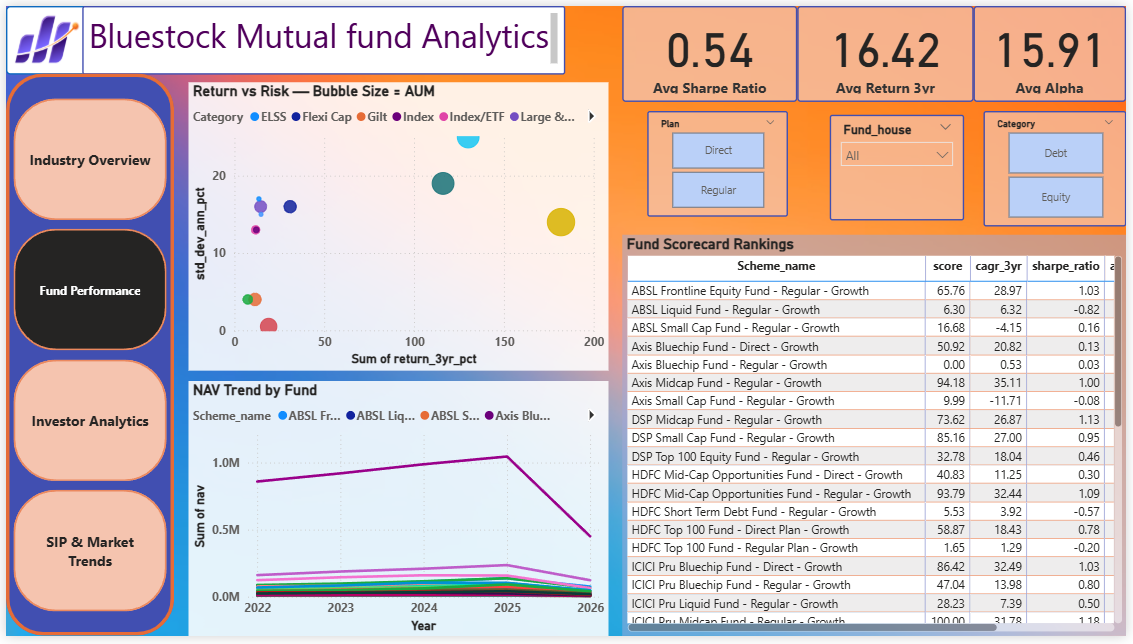

Layout of this report page (visuals, bound fields, positions):
{"tool":"powerbi","page":{"name":"Fund Performance","canvas":[1280,720],"ordinal":1},"visuals":[{"type":"scatterChart","title":"Return vs Risk — Bubble Size = AUM","fields":{"X":["Sum(fact_performance.return_3yr_pct)"],"Y":["fact_performance.std_dev_ann_pct"],"Size":["Sum(fact_performance.aum_crore)"],"Series":["fact_performance.category"]},"box":[208.6,86.4,480.3,329.3],"z":0},{"type":"tableEx","title":"Fund Scorecard Rankings","fields":{"Values":["fund_scorecard.scheme_name","fund_scorecard.score","fund_scorecard.cagr_3yr","fund_scorecard.sharpe_ratio","fund_scorecard.alpha_ann","fund_scorecard.max_drawdown"]},"box":[703.9,262.1,576.3,458.3],"z":1000},{"type":"lineChart","title":"NAV Trend by Fund","fields":{"Category":["fact_nav.date.Variation.Date Hierarchy.Year","fact_nav.date.Variation.Date Hierarchy.Quarter","fact_nav.date.Variation.Date Hierarchy.Month","fact_nav.date.Variation.Date Hierarchy.Day"],"Y":["Sum(fact_nav.nav)"],"Series":["dim_fund.scheme_name"]},"box":[208.6,428.1,480.3,292.3],"z":2000},{"type":"card","fields":{"Values":["_Measures.Avg Return 3yr"]},"box":[904.3,0,201.7,109.8],"z":3000},{"type":"card","fields":{"Values":["_Measures.Avg Sharpe Ratio"]},"box":[703.9,0,200.3,109.8],"z":4000},{"type":"card","fields":{"Values":["_Measures.Avg Alpha"]},"box":[1106,0,174.3,109.8],"z":5000},{"type":"slicer","fields":{"Values":["dim_fund.plan"]},"box":[732.8,119.4,160.5,120.8],"z":6000},{"type":"slicer","fields":{"Values":["dim_fund.category"]},"box":[1117,119.4,163.3,131.7],"z":7000},{"type":"slicer","fields":{"Values":["dim_fund.fund_house"]},"box":[941.3,124.9,153.7,120.8],"z":8000},{"type":"image","box":[0,0,93.3,78.2],"z":9000},{"type":"textbox","box":[87.8,0,551.6,78.2],"z":10000},{"type":"shape","box":[0,77.8,192.1,642.2],"z":11000},{"type":"pageNavigator","box":[8.2,105.7,175.6,587.3],"z":12000}]}

Visuals, with their boxes in screenshot pixels (x1, y1, x2, y2), scaled from the page's 1280x720 canvas onto the 1133x644 screenshot:
"Return vs Risk — Bubble Size = AUM" scatterChart: [x1=185, y1=77, x2=610, y2=372]
"Fund Scorecard Rankings" tableEx: [x1=623, y1=234, x2=1132, y2=643]
"NAV Trend by Fund" lineChart: [x1=185, y1=383, x2=610, y2=643]
card - _Measures.Avg Return 3yr: [x1=800, y1=0, x2=979, y2=98]
card - _Measures.Avg Sharpe Ratio: [x1=623, y1=0, x2=800, y2=98]
card - _Measures.Avg Alpha: [x1=979, y1=0, x2=1132, y2=98]
slicer - dim_fund.plan: [x1=649, y1=107, x2=791, y2=215]
slicer - dim_fund.category: [x1=989, y1=107, x2=1132, y2=225]
slicer - dim_fund.fund_house: [x1=833, y1=112, x2=969, y2=220]
image: [x1=0, y1=0, x2=83, y2=70]
textbox: [x1=78, y1=0, x2=566, y2=70]
shape: [x1=0, y1=70, x2=170, y2=643]
pageNavigator: [x1=7, y1=95, x2=163, y2=620]
